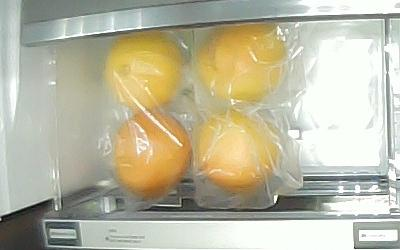grapefruit_vinyl: (195, 110, 277, 194), (113, 112, 192, 199), (197, 25, 285, 103), (106, 34, 186, 109)
